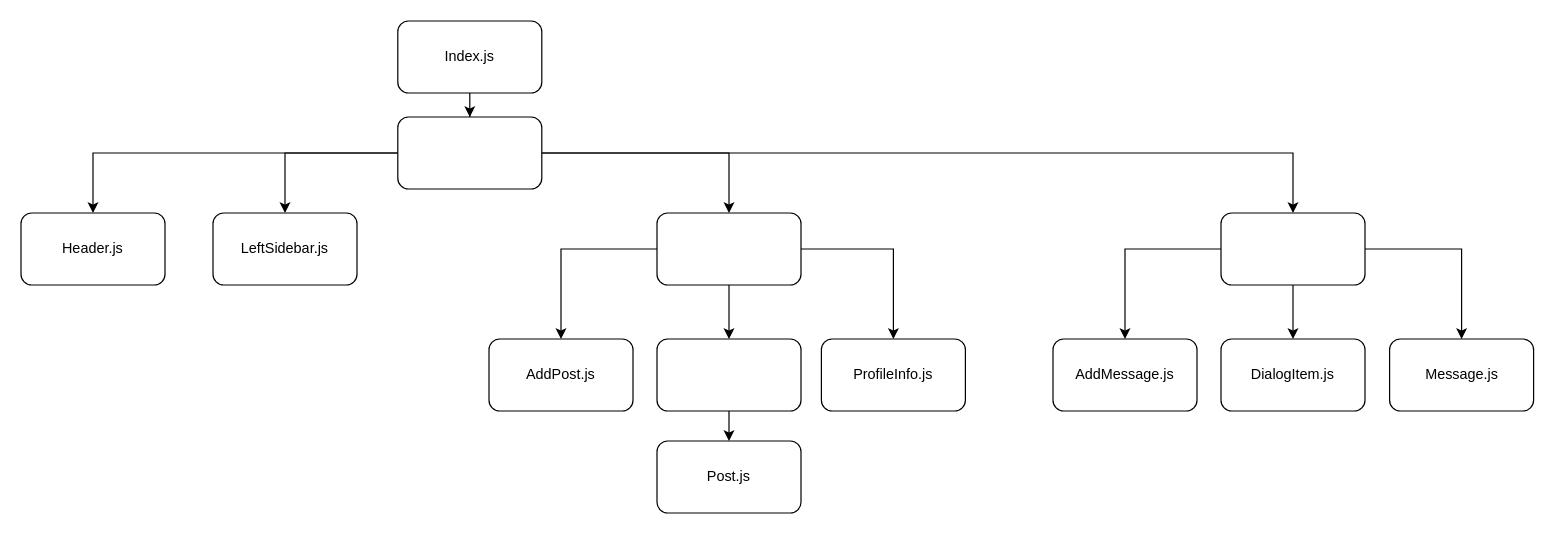
This 1555x534 diagram has some shape labels left out. Here are the shapes that lost their labels. From the top down, the centre of each, then its label:
(469,152): App.js
(728,248): Profile.js
(1292,248): Dialogs.js
(728,374): MyPosts.js
